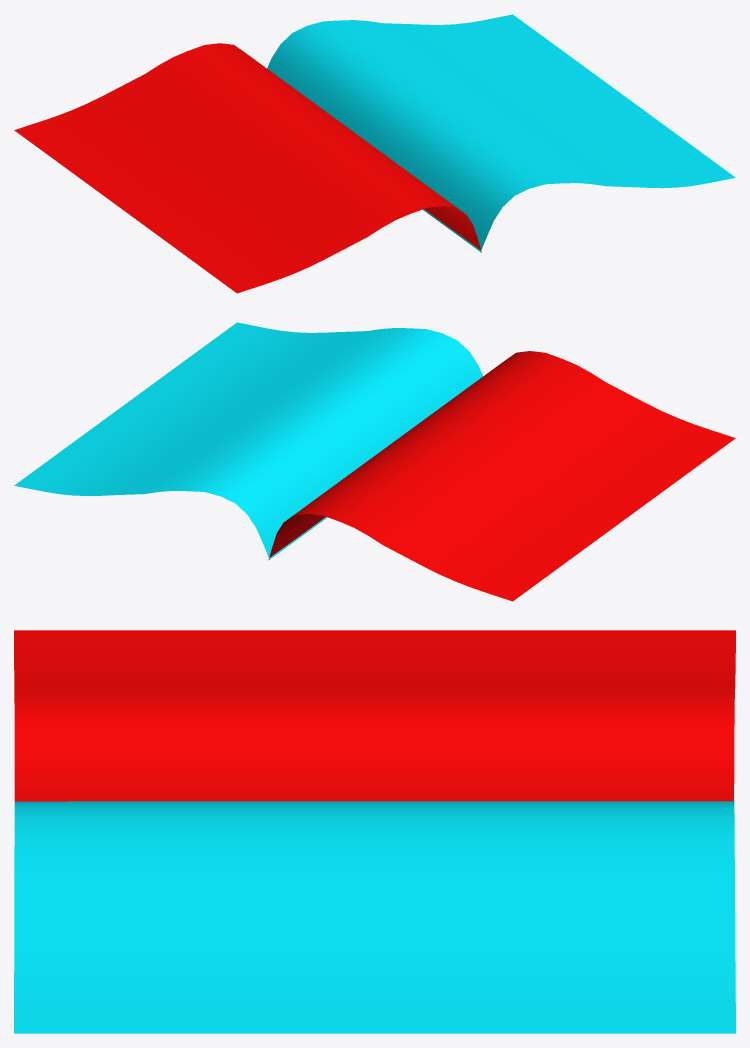
Rendered from SM_BookStaticPages.fbx.
3 renders of one model, top to bottom at view 1: azimuth 30°, elevation 25°; view 2: azimuth 150°, elevation 25°; view 3: azimuth 270°, elevation 25°, orthographic. The views are drawn at different scales.
Parts seen in each view (by area): view 1: leftPage, rightPage; view 2: leftPage, rightPage; view 3: rightPage, leftPage.
Boxes of the visible parts, x1,y1,x2,y2 form: leftPage: [14, 43, 481, 293]; rightPage: [267, 14, 735, 251]; leftPage: [268, 351, 735, 601]; rightPage: [14, 322, 483, 559]; rightPage: [14, 801, 735, 1033]; leftPage: [14, 630, 735, 801].
Bounding box in the file's own units: 37.89 × 29.35 × 4.26.
